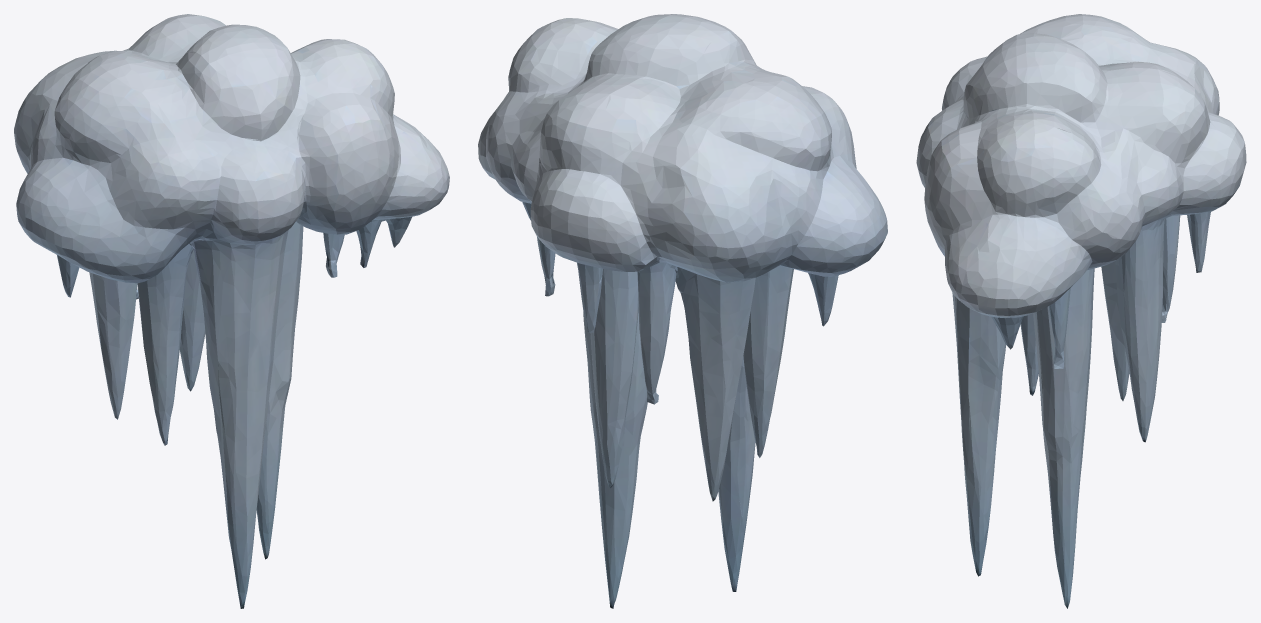
Rendered from spike_cloud.glb.
3 views of the same model, side by side, from view 1: azimuth 30°, elevation 25°; view 2: azimuth 150°, elevation 25°; view 3: azimuth 270°, elevation 25° (orthographic). The views are drawn at different scales.
Parts seen in each view (by area): view 1: world; view 2: world; view 3: world.
Part boxes in pixels (x1=…): world: x1=14, y1=14, x2=449, y2=608; world: x1=478, y1=14, x2=887, y2=608; world: x1=916, y1=14, x2=1246, y2=608.
Size of the model in its own units: 0.7475 by 1 by 0.5514.
Materials: 1 (1 with a texture image).
